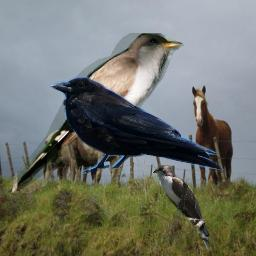Crow: (47, 76, 224, 174)
Cuckoo: (10, 33, 184, 193), (152, 165, 217, 251)
